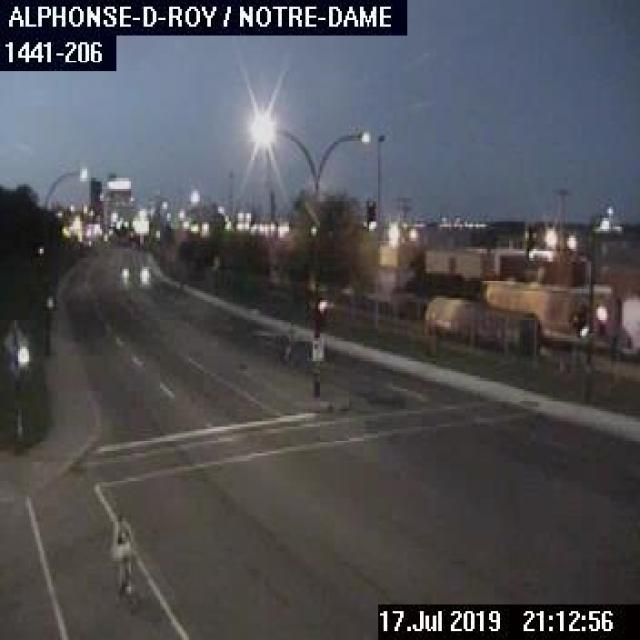cyclist: (107, 509, 138, 603)
vehicle: (118, 258, 151, 286)
